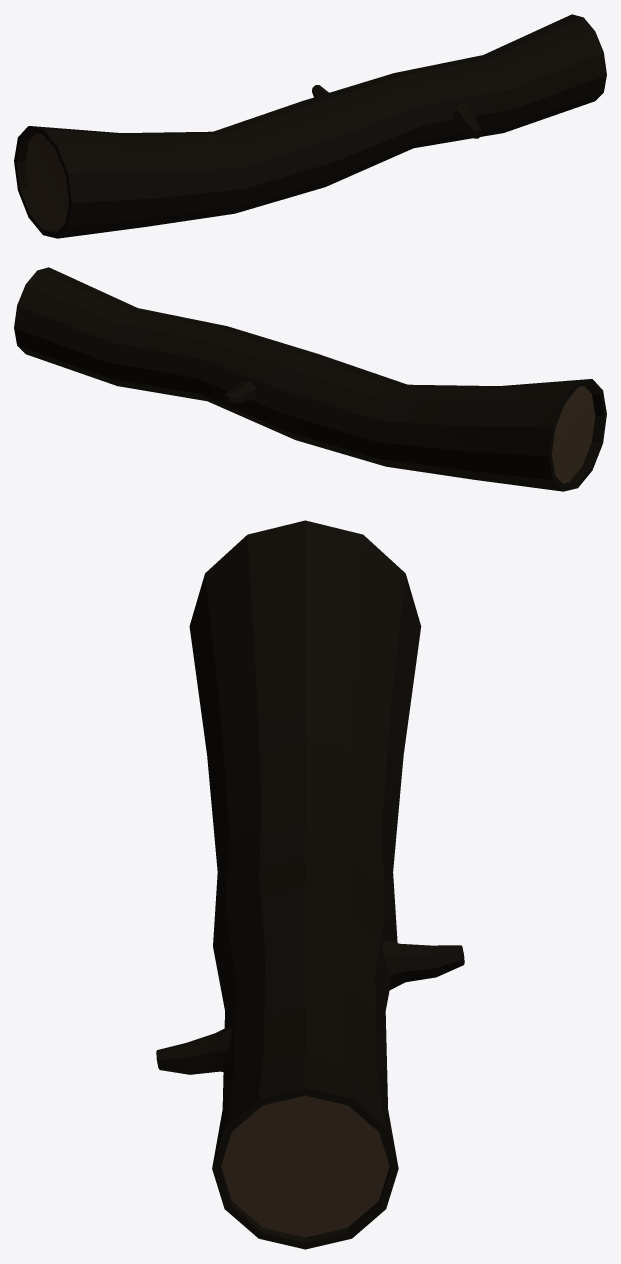
File: FullLog.fbx
3 renders of one model, top to bottom at view 1: azimuth 30°, elevation 25°; view 2: azimuth 150°, elevation 25°; view 3: azimuth 270°, elevation 25°, orthographic. The views are drawn at different scales.
Parts seen in each view (by area): view 1: polySurface1 (×2), polySurface2; view 2: polySurface1 (×2), polySurface3; view 3: polySurface1 (×2), polySurface3, polySurface2.
Part boxes in pixels (box(x1,y1,x2,y2)): polySurface1 (×2): box(14, 14, 606, 238); polySurface2: box(453, 102, 481, 138); polySurface1 (×2): box(14, 267, 606, 491); polySurface3: box(221, 380, 256, 406); polySurface1 (×2): box(189, 520, 421, 1249); polySurface3: box(382, 940, 464, 989); polySurface2: box(156, 1025, 232, 1074).
Size of the model in its own units: 17.67 by 3.92 by 4.36.
